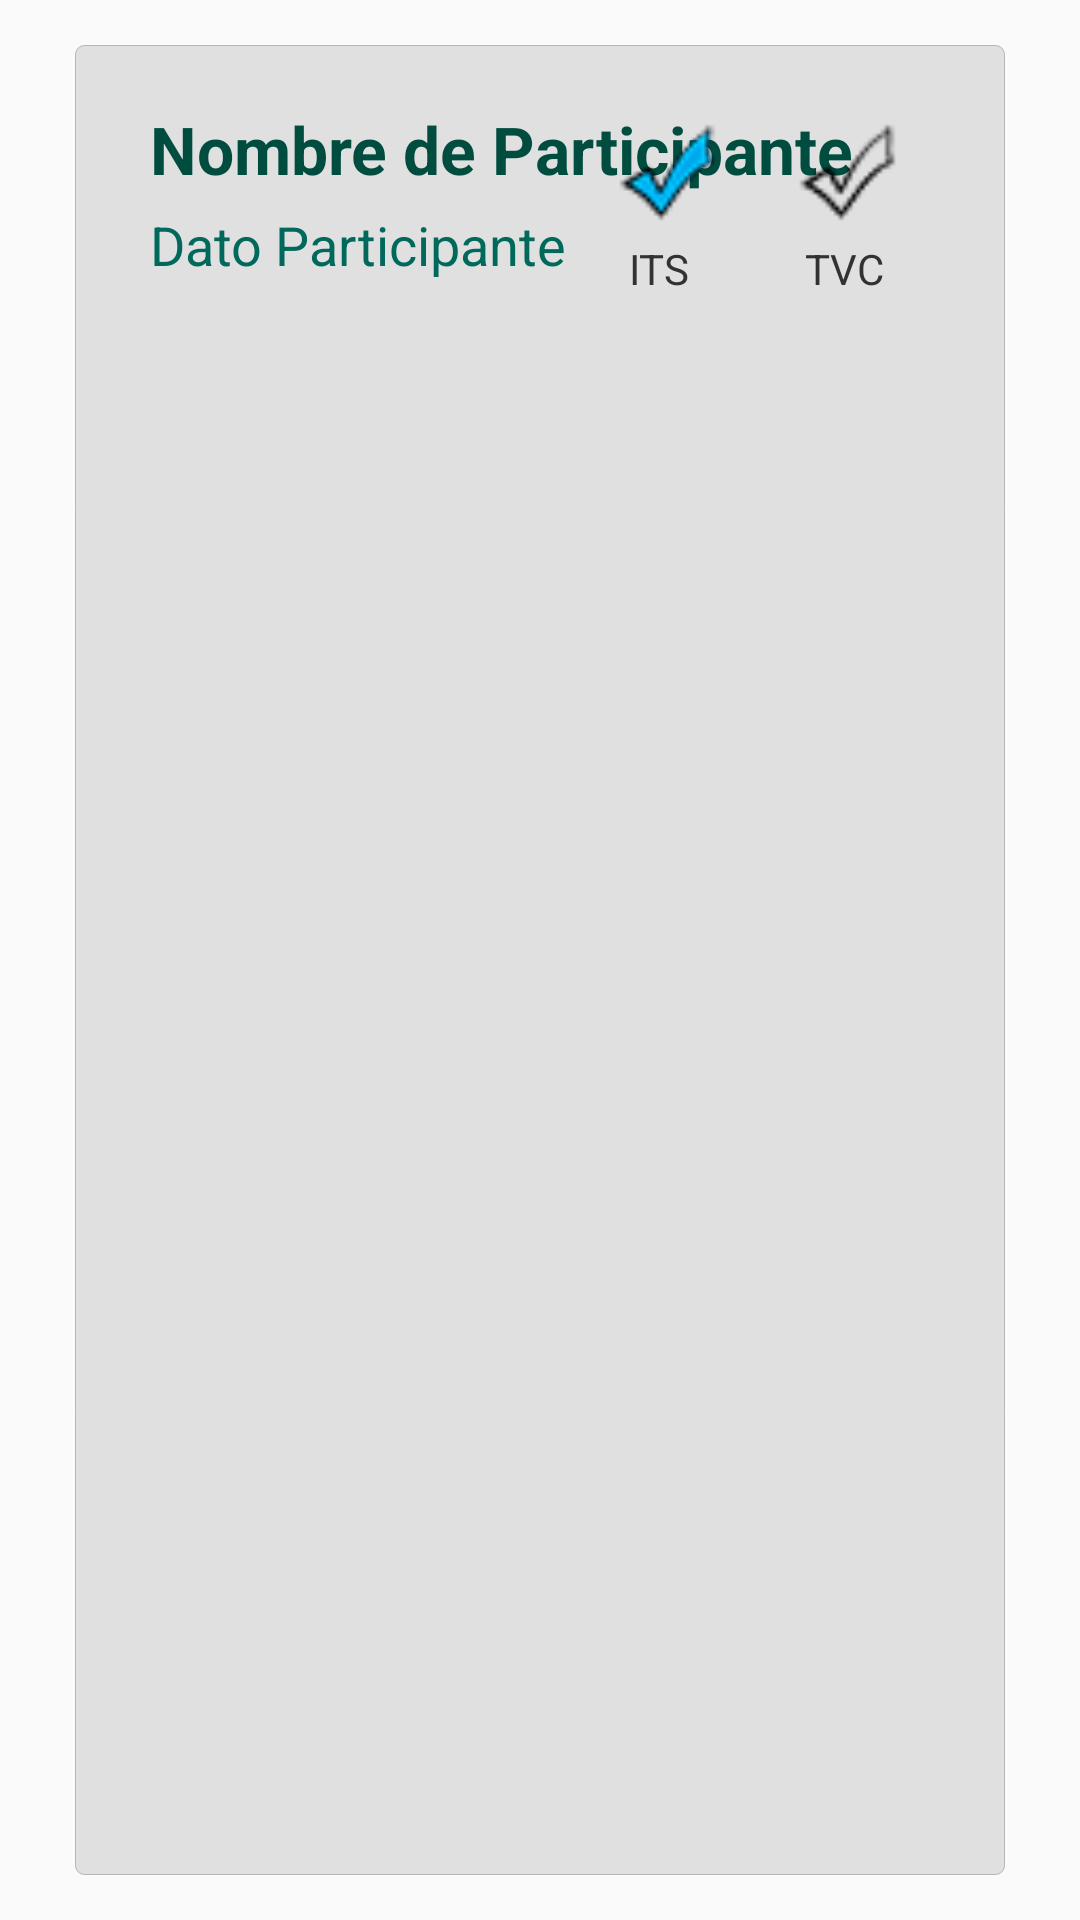

Icon bounding boxes for this 1080w x 1920h phone screenshot, format (x1, y1, x2, y2):
check: (600, 125, 721, 220), (795, 125, 895, 220)
